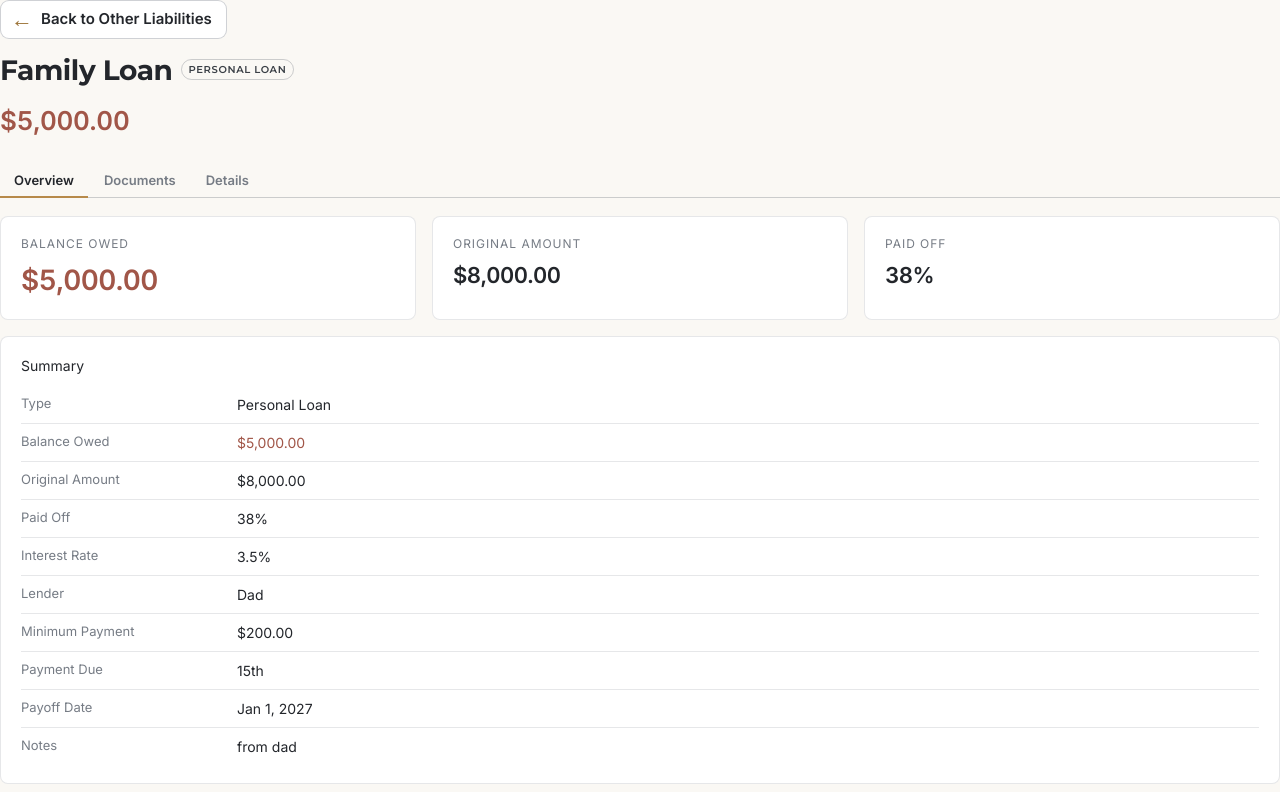
it: LiabilityDetail page › validates a blank name on save
Expected: the heading "Family Loan Personal Loan" is shown, [0,48,294,90]
Click the button "Details" at coordinates (227, 180), box [192,164,263,198]
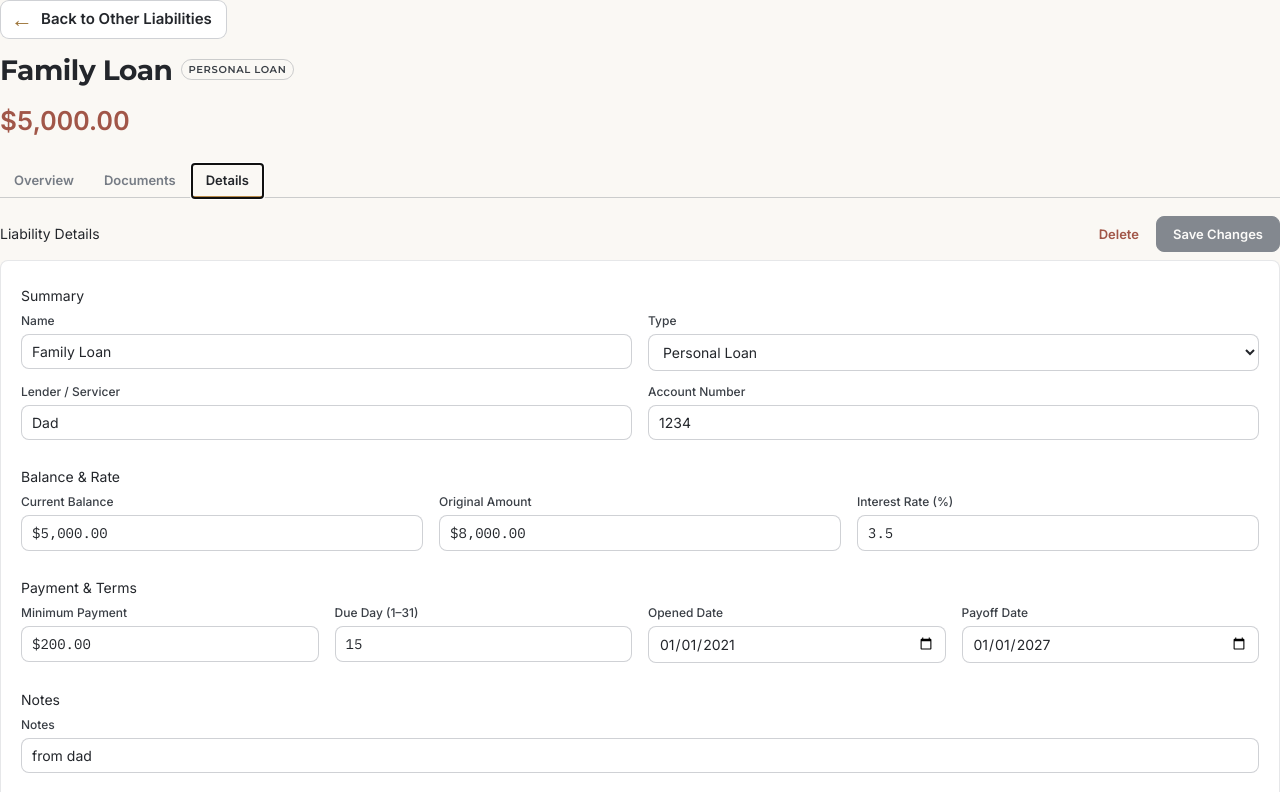
Clear the field with placeholder "e.g. Family loan" at coordinates (326, 351), box [21,334,632,368]
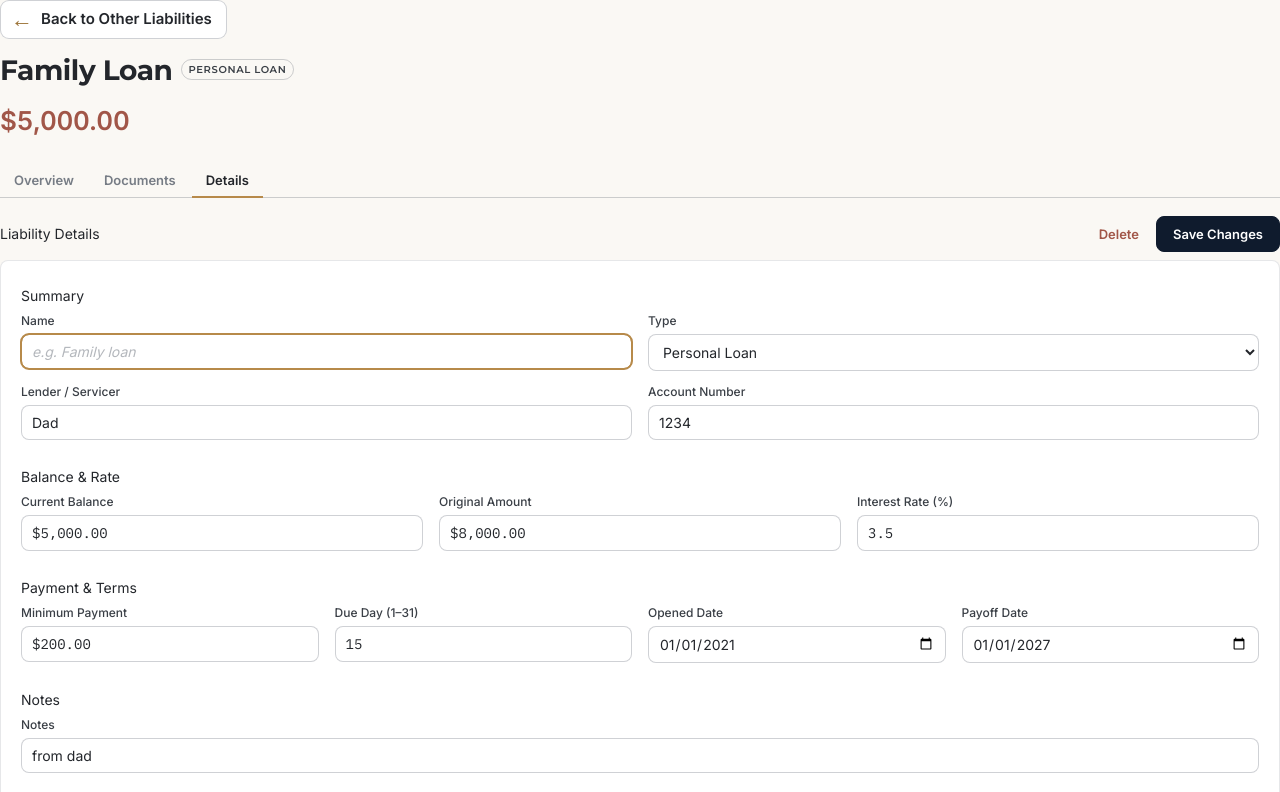
Click the button "Save Changes" at coordinates (1218, 234), box [1156,216,1279,252]
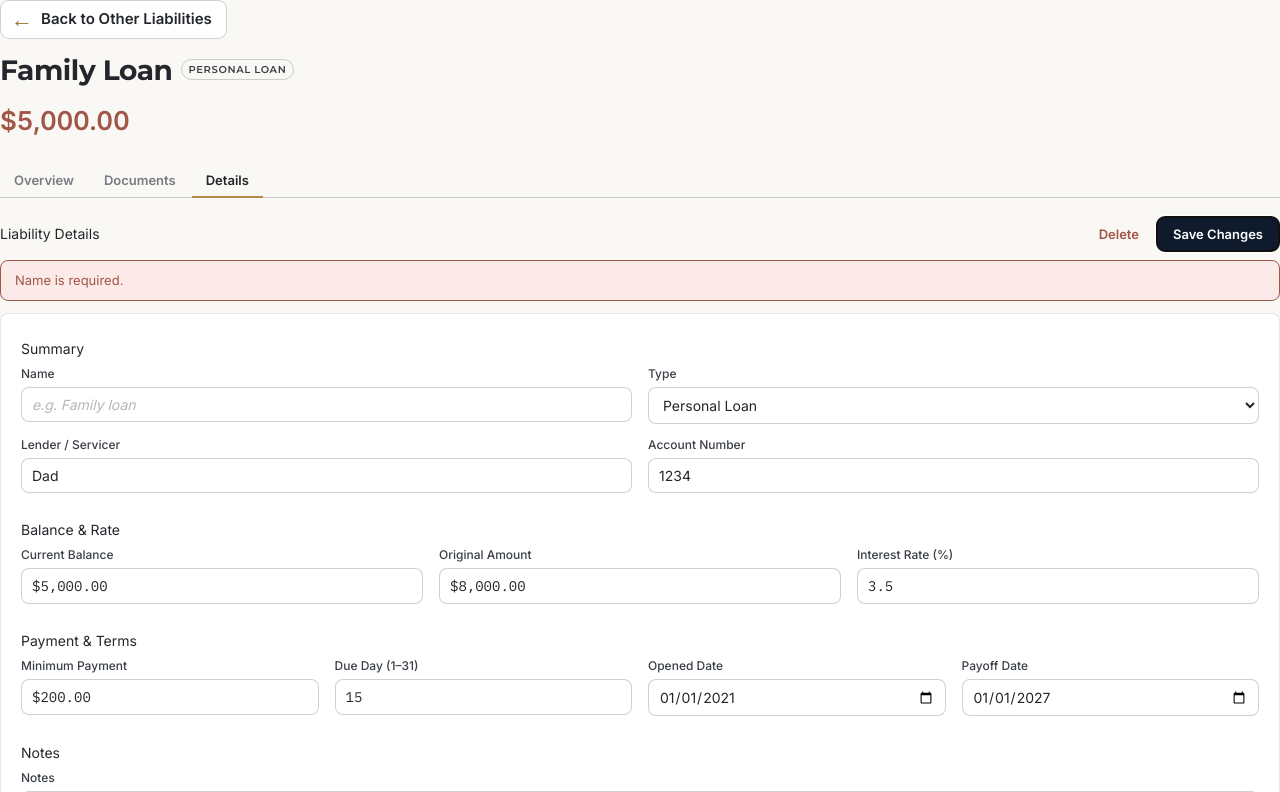
Now the text "Name is required." is shown, box [0,260,1279,301]
